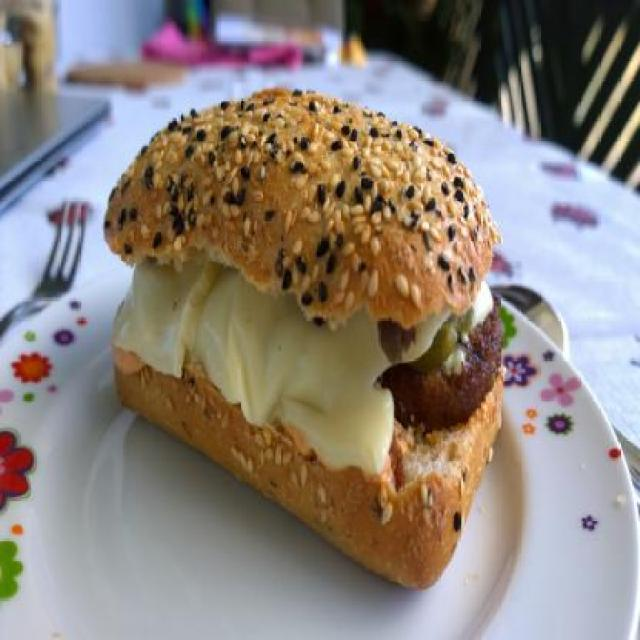Sandwich: (102, 84, 506, 598)
